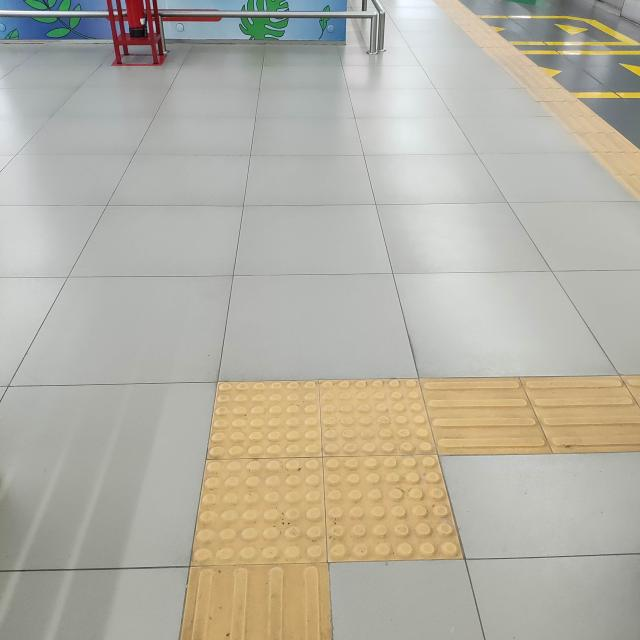kanan: (121, 328, 640, 627)
